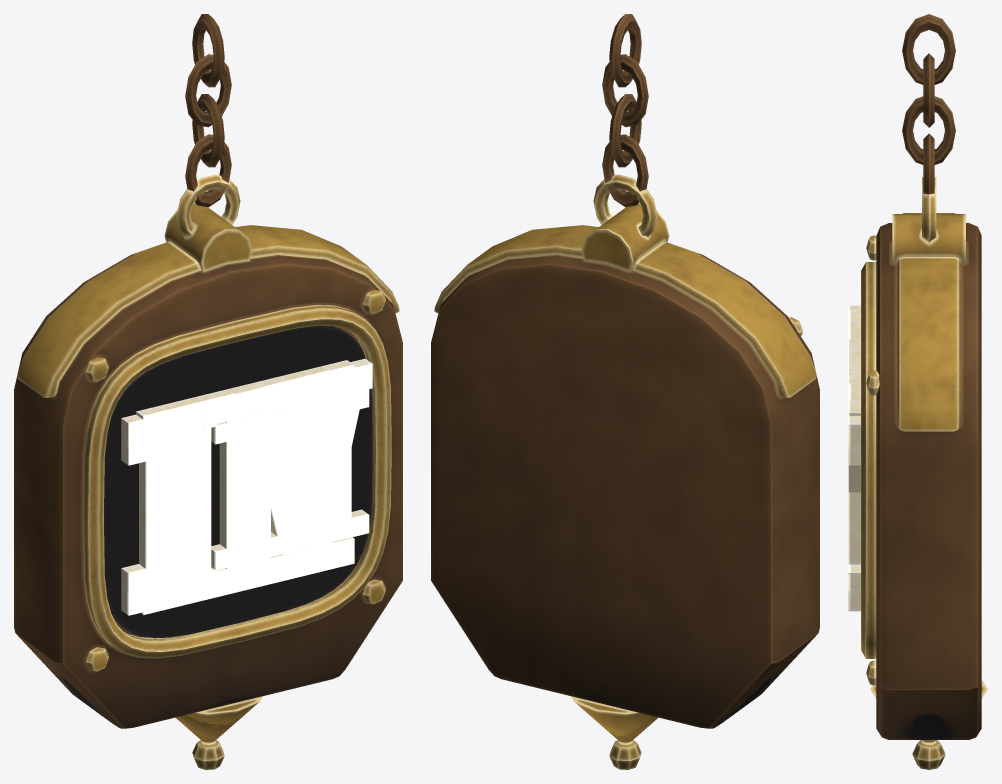
File: CounterpoiseWeight.glb
3 renders of one model, left to right at view 1: azimuth 30°, elevation 25°; view 2: azimuth 150°, elevation 25°; view 3: azimuth 270°, elevation 25°, orthographic.
Parts seen in each view (by area): view 1: CounterpoiseBody, Numeral_II, Numeral_III, Numeral_IV, Numeral_I; view 2: CounterpoiseBody; view 3: CounterpoiseBody, Numeral_III, Numeral_II, Numeral_IV, Numeral_I.
Part boxes in pixels (box(x1,y1,x2,y2)): CounterpoiseBody: box(14, 14, 402, 769); Numeral_II: box(136, 360, 354, 614); Numeral_III: box(121, 389, 369, 591); Numeral_IV: box(121, 358, 372, 615); Numeral_I: box(196, 380, 294, 600); CounterpoiseBody: box(431, 14, 819, 769); CounterpoiseBody: box(861, 14, 987, 769); Numeral_III: box(848, 449, 860, 591); Numeral_II: box(848, 310, 860, 611); Numeral_IV: box(848, 305, 860, 492); Numeral_I: box(848, 339, 860, 383).
Size of the model in its own units: 0.8301 by 1.68 by 0.2826.
1 material, 1 textured.
